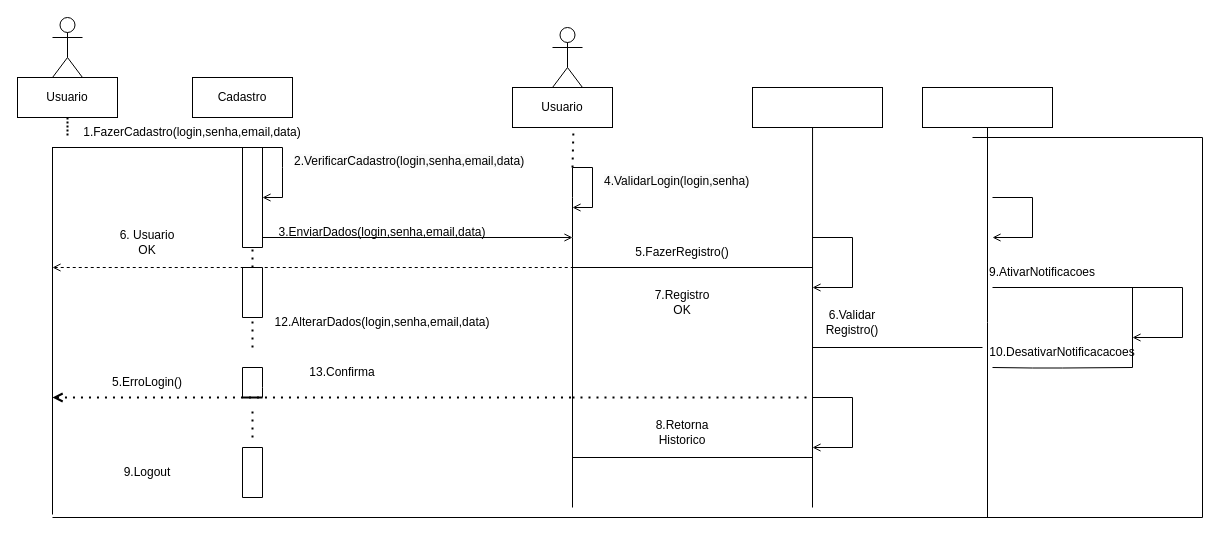
This 1221x536 diagram has some shape labels left out. Here are the shapes that lost their labels. From the top down, the box of each, then its label:
(752, 86, 882, 128): GerenciamentoVacina
(922, 86, 1052, 128): Notificacoes
